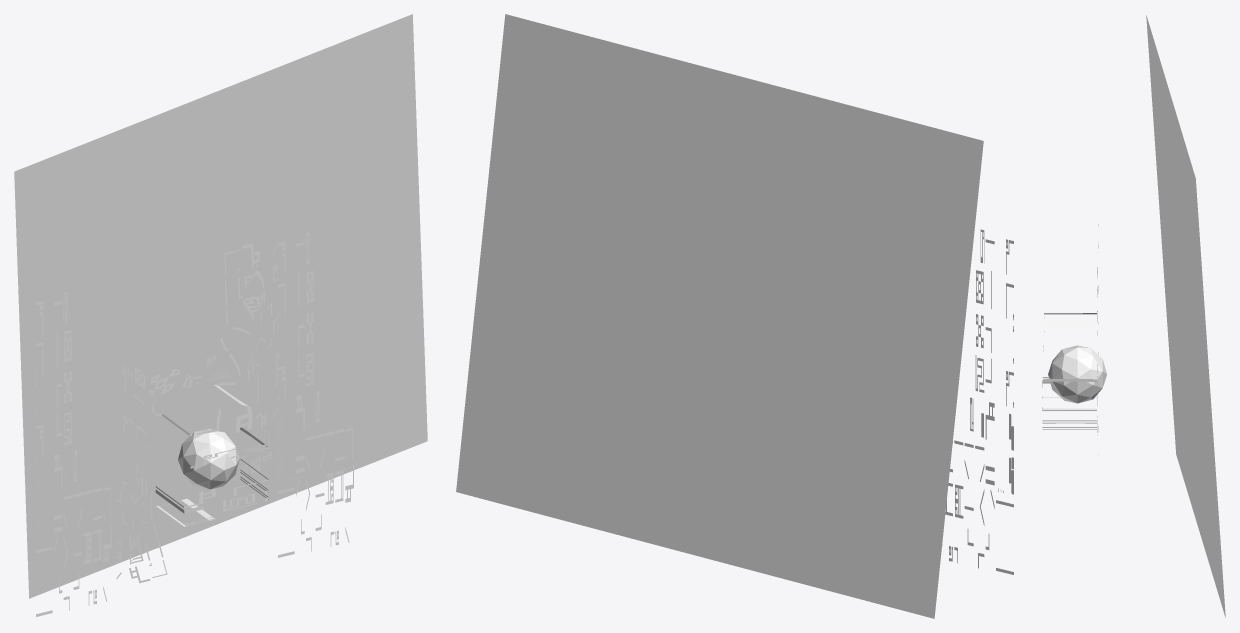
File: MultistableMerge_Onion (3).fbx
3 renders of one model, left to right at view 1: azimuth 30°, elevation 25°; view 2: azimuth 150°, elevation 25°; view 3: azimuth 270°, elevation 25°, orthographic. The views are drawn at different scales.
Visible parts, largest first — view 1: orb (2), MultistableMerge_Onion (3), Whitebox_Quad (2), Whitebox_Quad (1), orb; view 2: orb (2), Whitebox_Quad (2); view 3: orb (2), orb, MultistableMerge_Onion (3).
Part boxes in pixels (x1=…): orb (2): x1=14, y1=14, x2=427, y2=598; MultistableMerge_Onion (3): x1=116, y1=241, x2=277, y2=583; Whitebox_Quad (2): x1=36, y1=291, x2=111, y2=616; Whitebox_Quad (1): x1=278, y1=232, x2=353, y2=557; orb: x1=178, y1=428, x2=239, y2=489; orb (2): x1=456, y1=14, x2=983, y2=618; Whitebox_Quad (2): x1=942, y1=229, x2=1013, y2=574; orb (2): x1=1146, y1=15, x2=1225, y2=617; orb: x1=1048, y1=345, x2=1107, y2=403; MultistableMerge_Onion (3): x1=1042, y1=224, x2=1098, y2=454.
Bounding box in the file's own units: 2.84 × 2.85 × 1.03.
3 materials, 2 textured.
